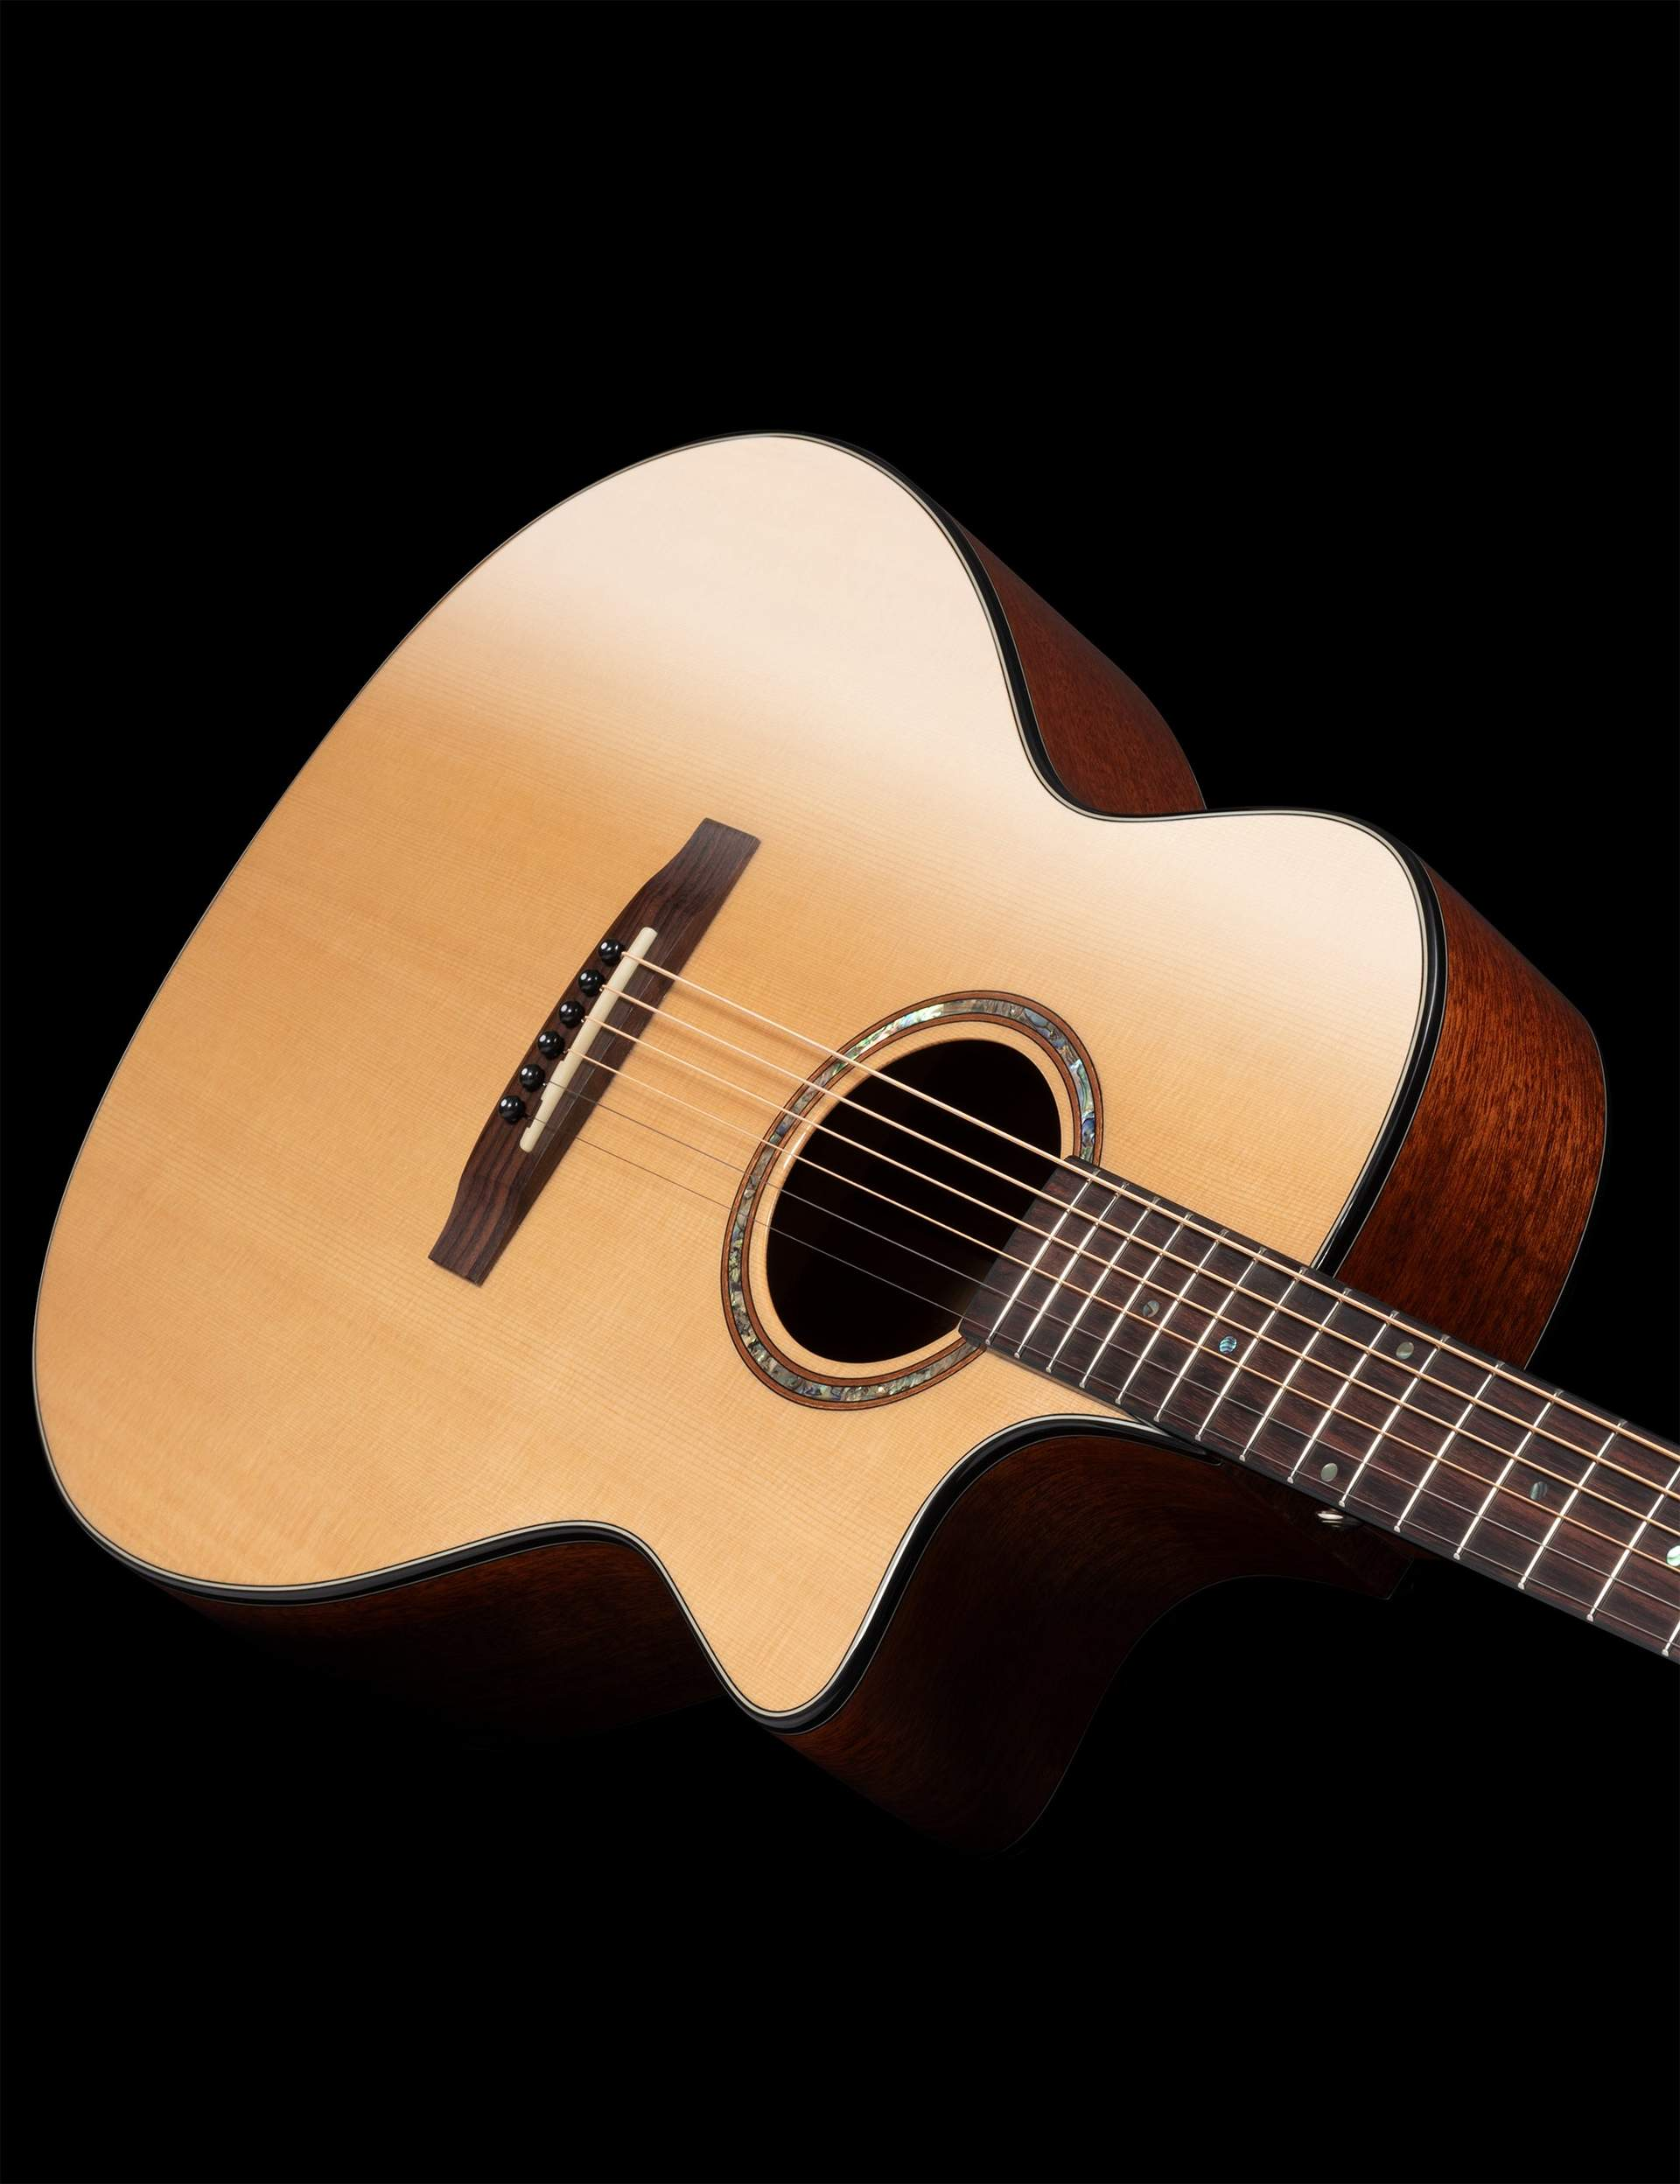guitar: (48, 430, 1680, 1911)
